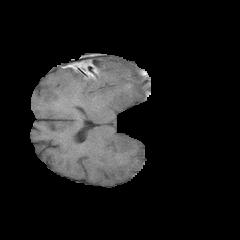glioma: (42, 59, 109, 106)
